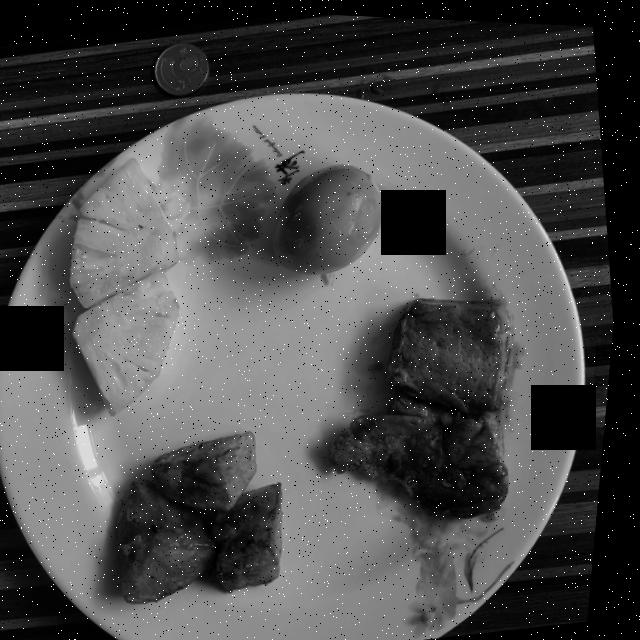coin: (156, 41, 210, 95)
creamy tofu: (334, 294, 518, 513)
fried potato: (125, 429, 292, 602)
pineapple: (75, 157, 185, 413)
soy egg: (277, 161, 387, 272)
